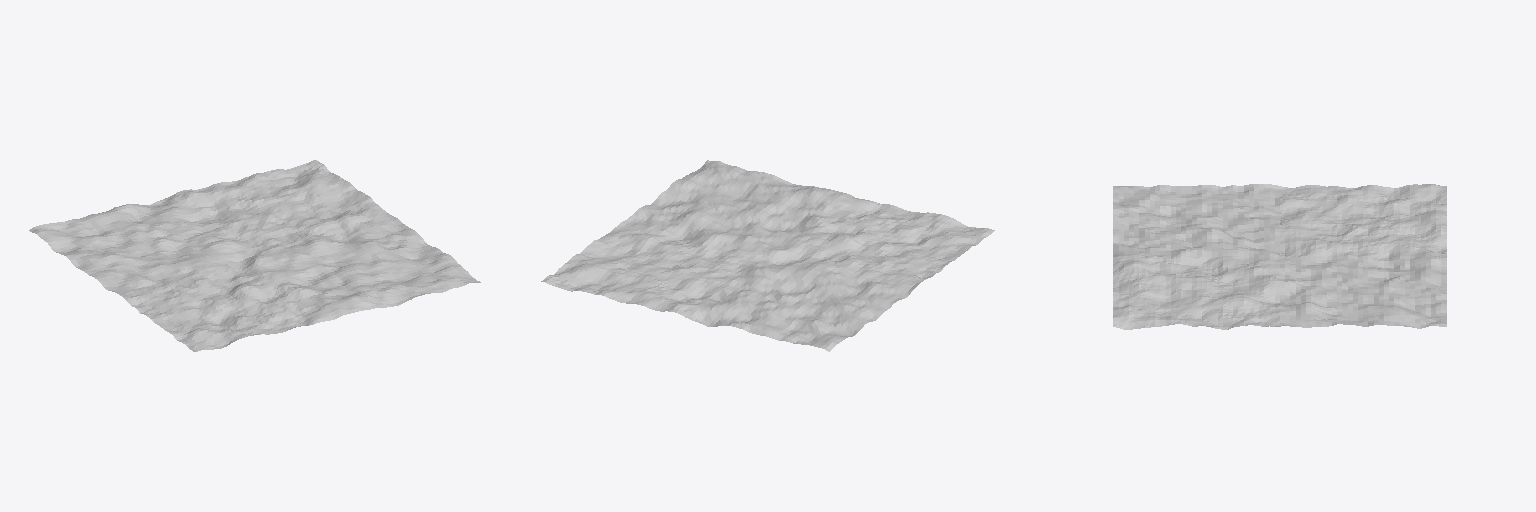
File: terrain.obj
3 renders of one model, left to right at view 1: azimuth 30°, elevation 25°; view 2: azimuth 150°, elevation 25°; view 3: azimuth 270°, elevation 25°, orthographic.
Size of the model in its own units: 12.07 by 0.4383 by 12.07.